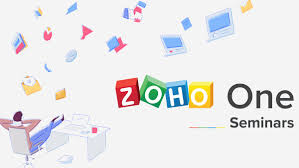zoho: (114, 75, 215, 110)
